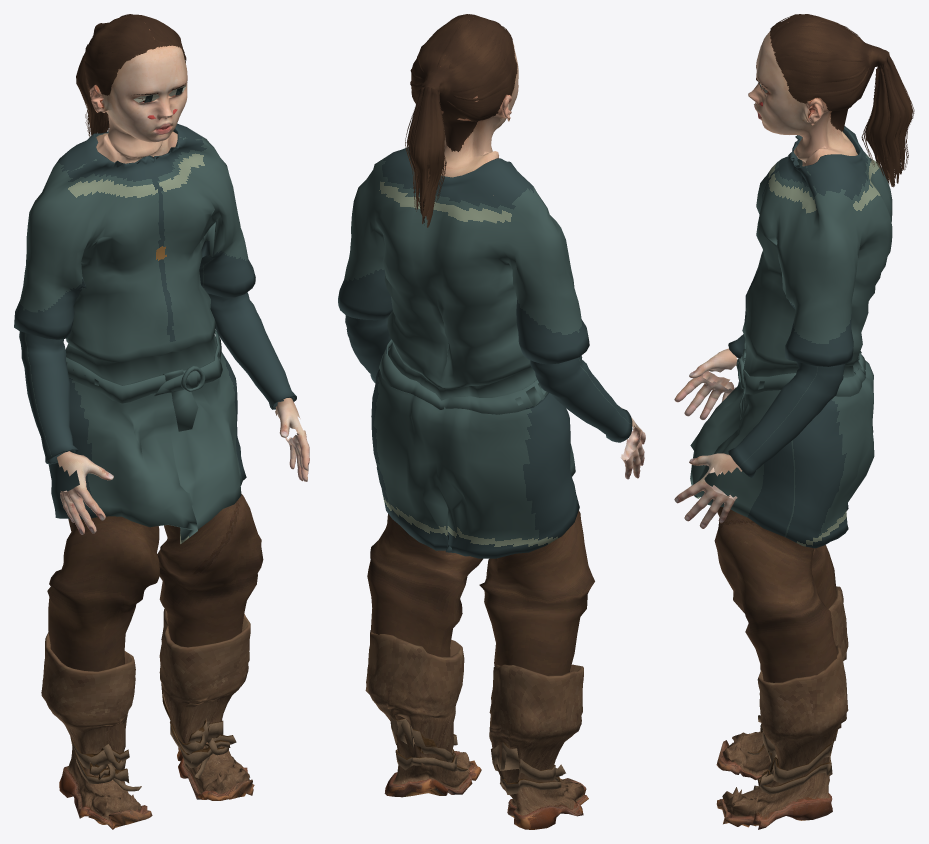
Rendered from ada-field-tunic.glb.
3 renders of one model, left to right at view 1: azimuth 30°, elevation 25°; view 2: azimuth 150°, elevation 25°; view 3: azimuth 270°, elevation 25°, orthographic. The views are drawn at different scales.
Visible parts, largest first — view 1: ada-field-tunic runtime mesh; view 2: ada-field-tunic runtime mesh; view 3: ada-field-tunic runtime mesh.
Boxes of the visible parts, <box> form: ada-field-tunic runtime mesh: <box>14,14,309,829</box>; ada-field-tunic runtime mesh: <box>338,14,645,829</box>; ada-field-tunic runtime mesh: <box>674,14,914,829</box>.
Bounding box in the file's own units: 0.6264 × 1.85 × 0.5157.
8 materials, 7 textured.
